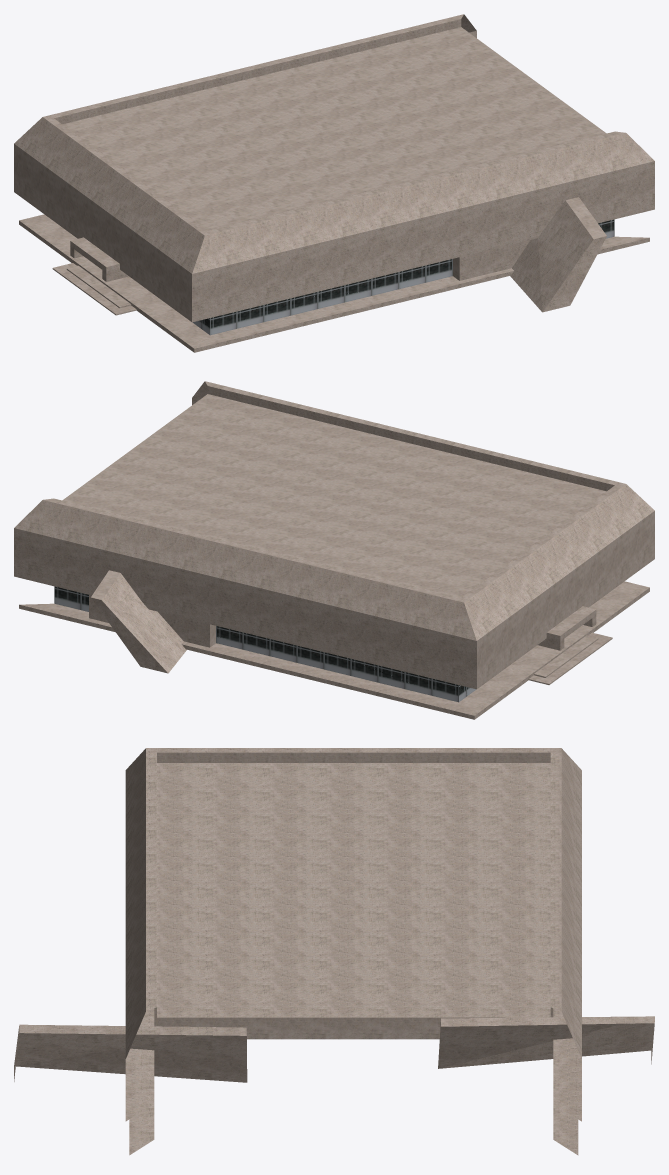
The model's file is des_reslab_.obj.
3 views of the same model, one above another, from view 1: azimuth 30°, elevation 25°; view 2: azimuth 150°, elevation 25°; view 3: azimuth 270°, elevation 25° (orthographic). The views are drawn at different scales.
Visible parts, largest first — view 1: des_reslab_; view 2: des_reslab_; view 3: des_reslab_.
Boxes of the visible parts, x1,y1,x2,y2 form: des_reslab_: (14,14,654,352); des_reslab_: (14,381,654,719); des_reslab_: (14,748,654,1155).
Size of the model in its own units: 62.2 by 13.49 by 56.18.
Materials: 3 (3 with a texture image).
